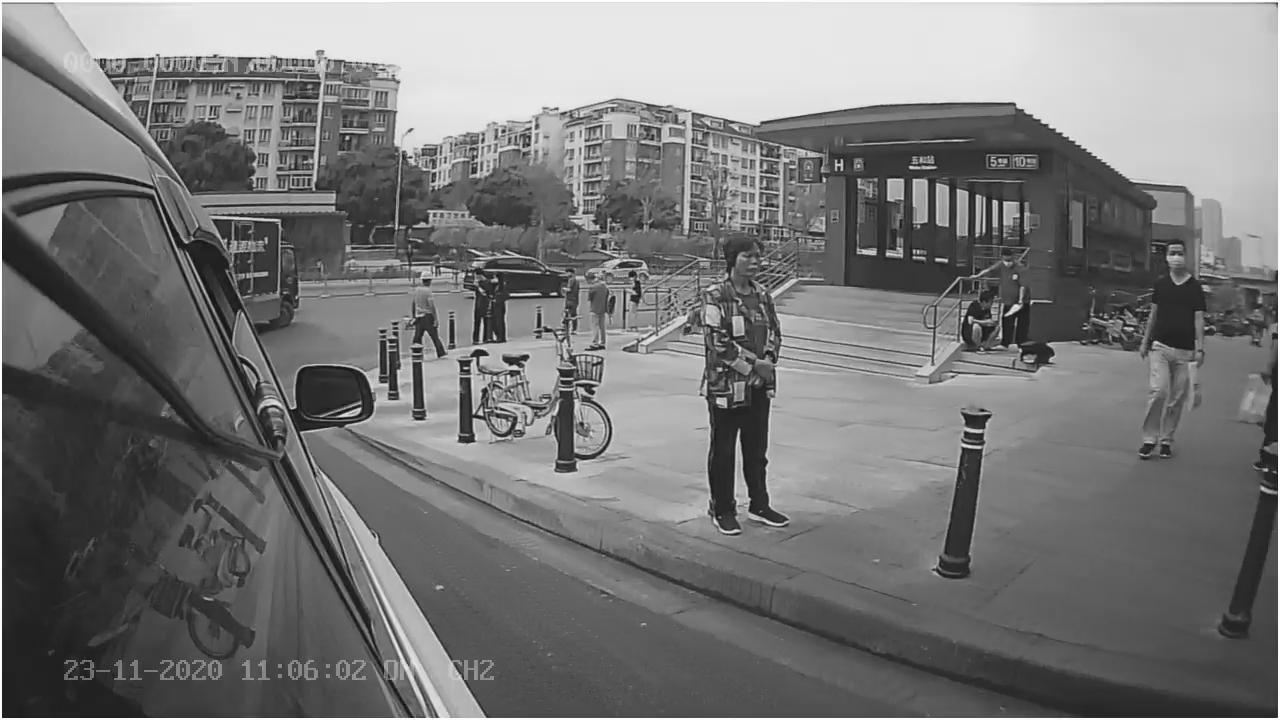person: (687, 227, 802, 539)
